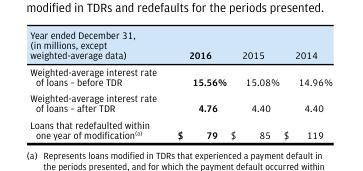table: (29, 29, 331, 140)
table column: (29, 29, 166, 140), (166, 29, 227, 140), (227, 29, 280, 140), (280, 29, 331, 140)
table column header: (29, 29, 331, 63)
table row: (29, 29, 331, 63), (29, 89, 331, 116), (29, 63, 331, 89), (29, 116, 331, 140)
